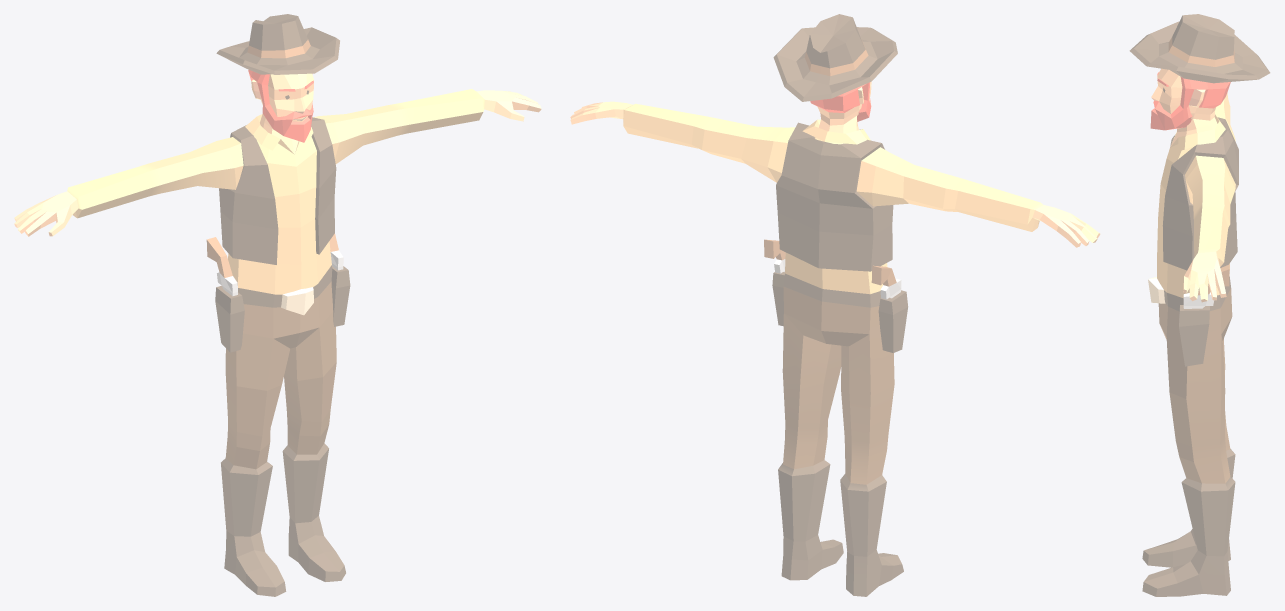
File: 213_man_cowboy.gltf
The picture shows the model from 3 angles, left to right: view 1: azimuth 30°, elevation 25°; view 2: azimuth 150°, elevation 25°; view 3: azimuth 270°, elevation 25°; orthographic projection.
Visible parts, largest first — view 1: man_cowboy; view 2: man_cowboy; view 3: man_cowboy.
Part boxes in pixels (box(x1,y1,x2,y2)): man_cowboy: box(14, 14, 541, 596); man_cowboy: box(570, 14, 1100, 596); man_cowboy: box(1129, 14, 1270, 596).
Size of the model in its own units: 1.86 by 1.89 by 0.4343.
Materials: 1 (1 with a texture image).
